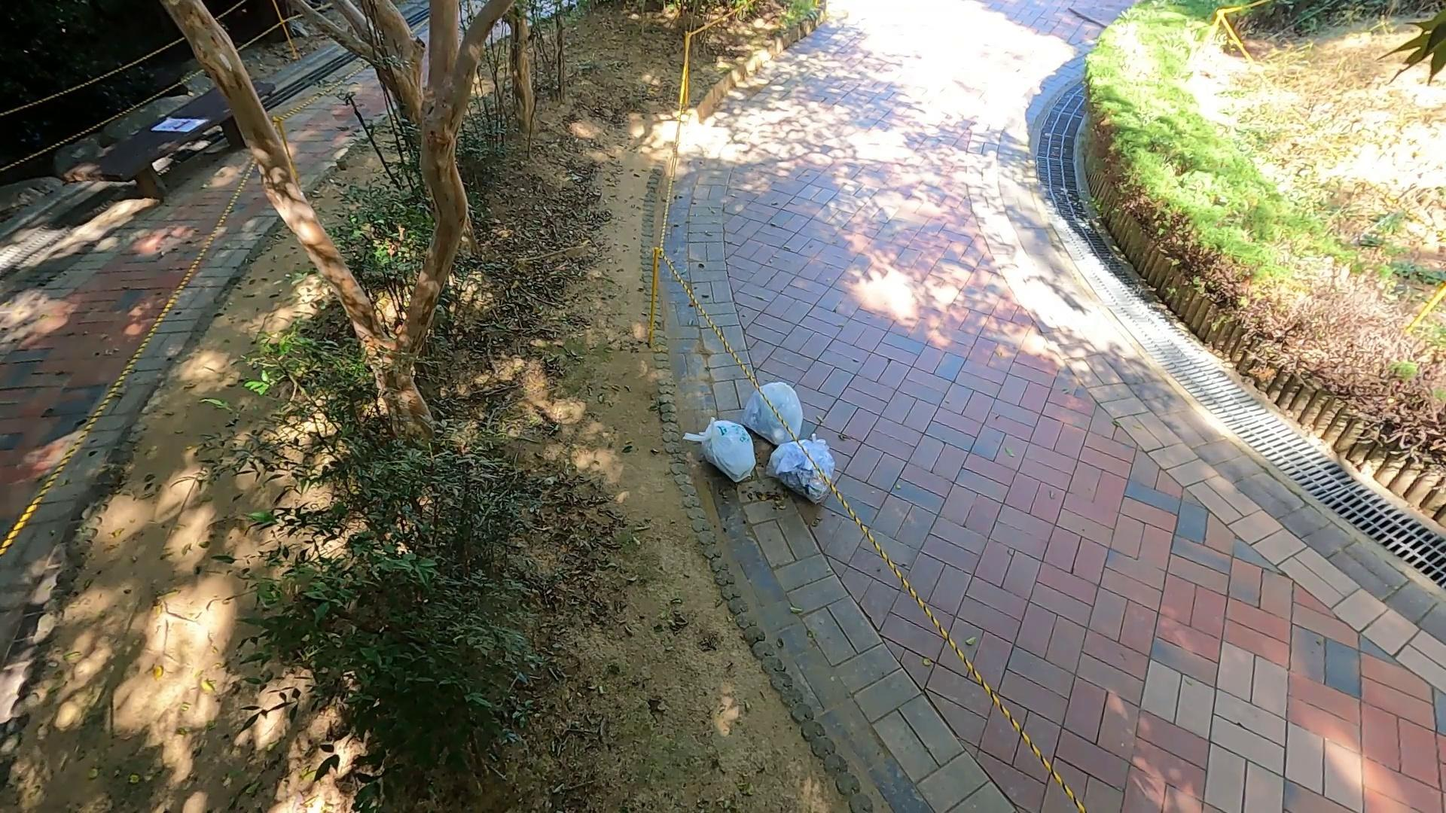trash: (765, 426, 838, 503), (738, 375, 809, 448), (687, 415, 759, 484)
